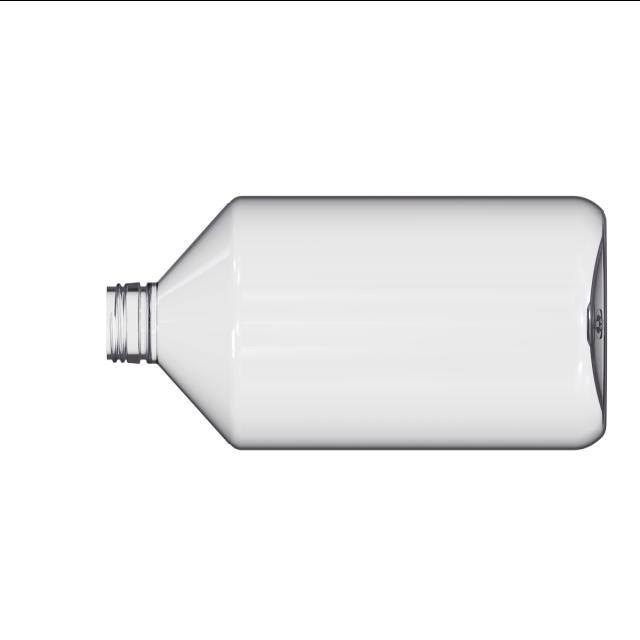bottom: (586, 211, 606, 428)
neck: (107, 202, 237, 443)
